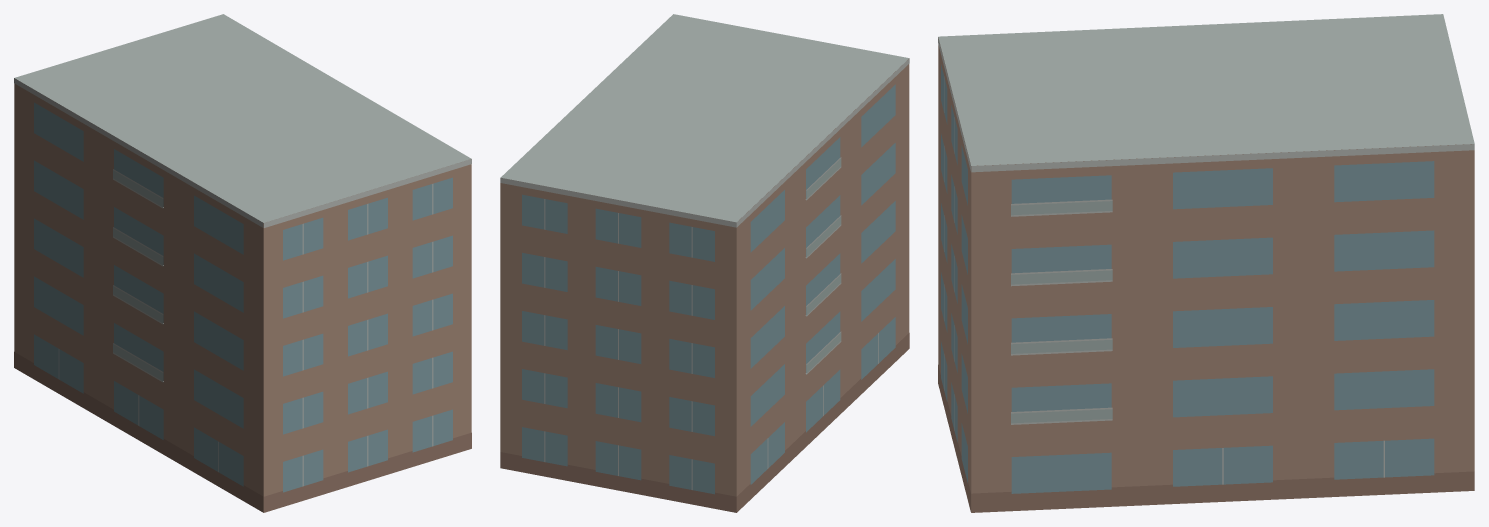
Rendered from survey-upis-32885110.glb.
3 views of the same model, side by side, from view 1: azimuth 30°, elevation 25°; view 2: azimuth 150°, elevation 25°; view 3: azimuth 270°, elevation 25° (orthographic). The views are drawn at different scales.
Parts seen in each view (by area): view 1: survey-upis-32885110.tmp; view 2: survey-upis-32885110.tmp; view 3: survey-upis-32885110.tmp.
Part boxes in pixels (x1,y1,x2,y2): survey-upis-32885110.tmp: (14,14,471,512); survey-upis-32885110.tmp: (500,14,909,512); survey-upis-32885110.tmp: (938,14,1474,512).
Size of the model in its own units: 12.61 by 13.4 by 18.8.
